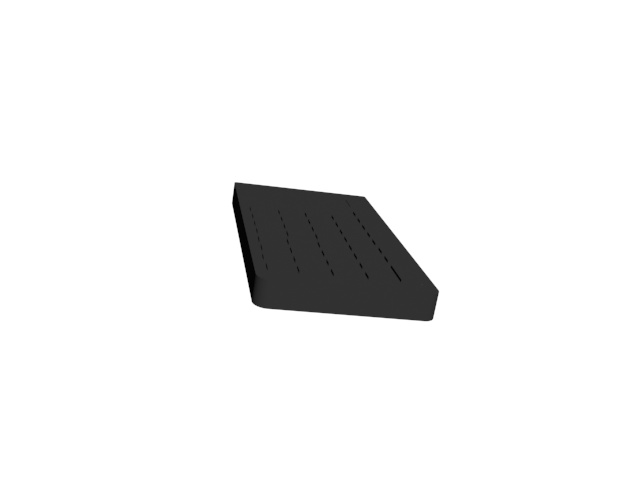calculator: (225, 177, 440, 328)
